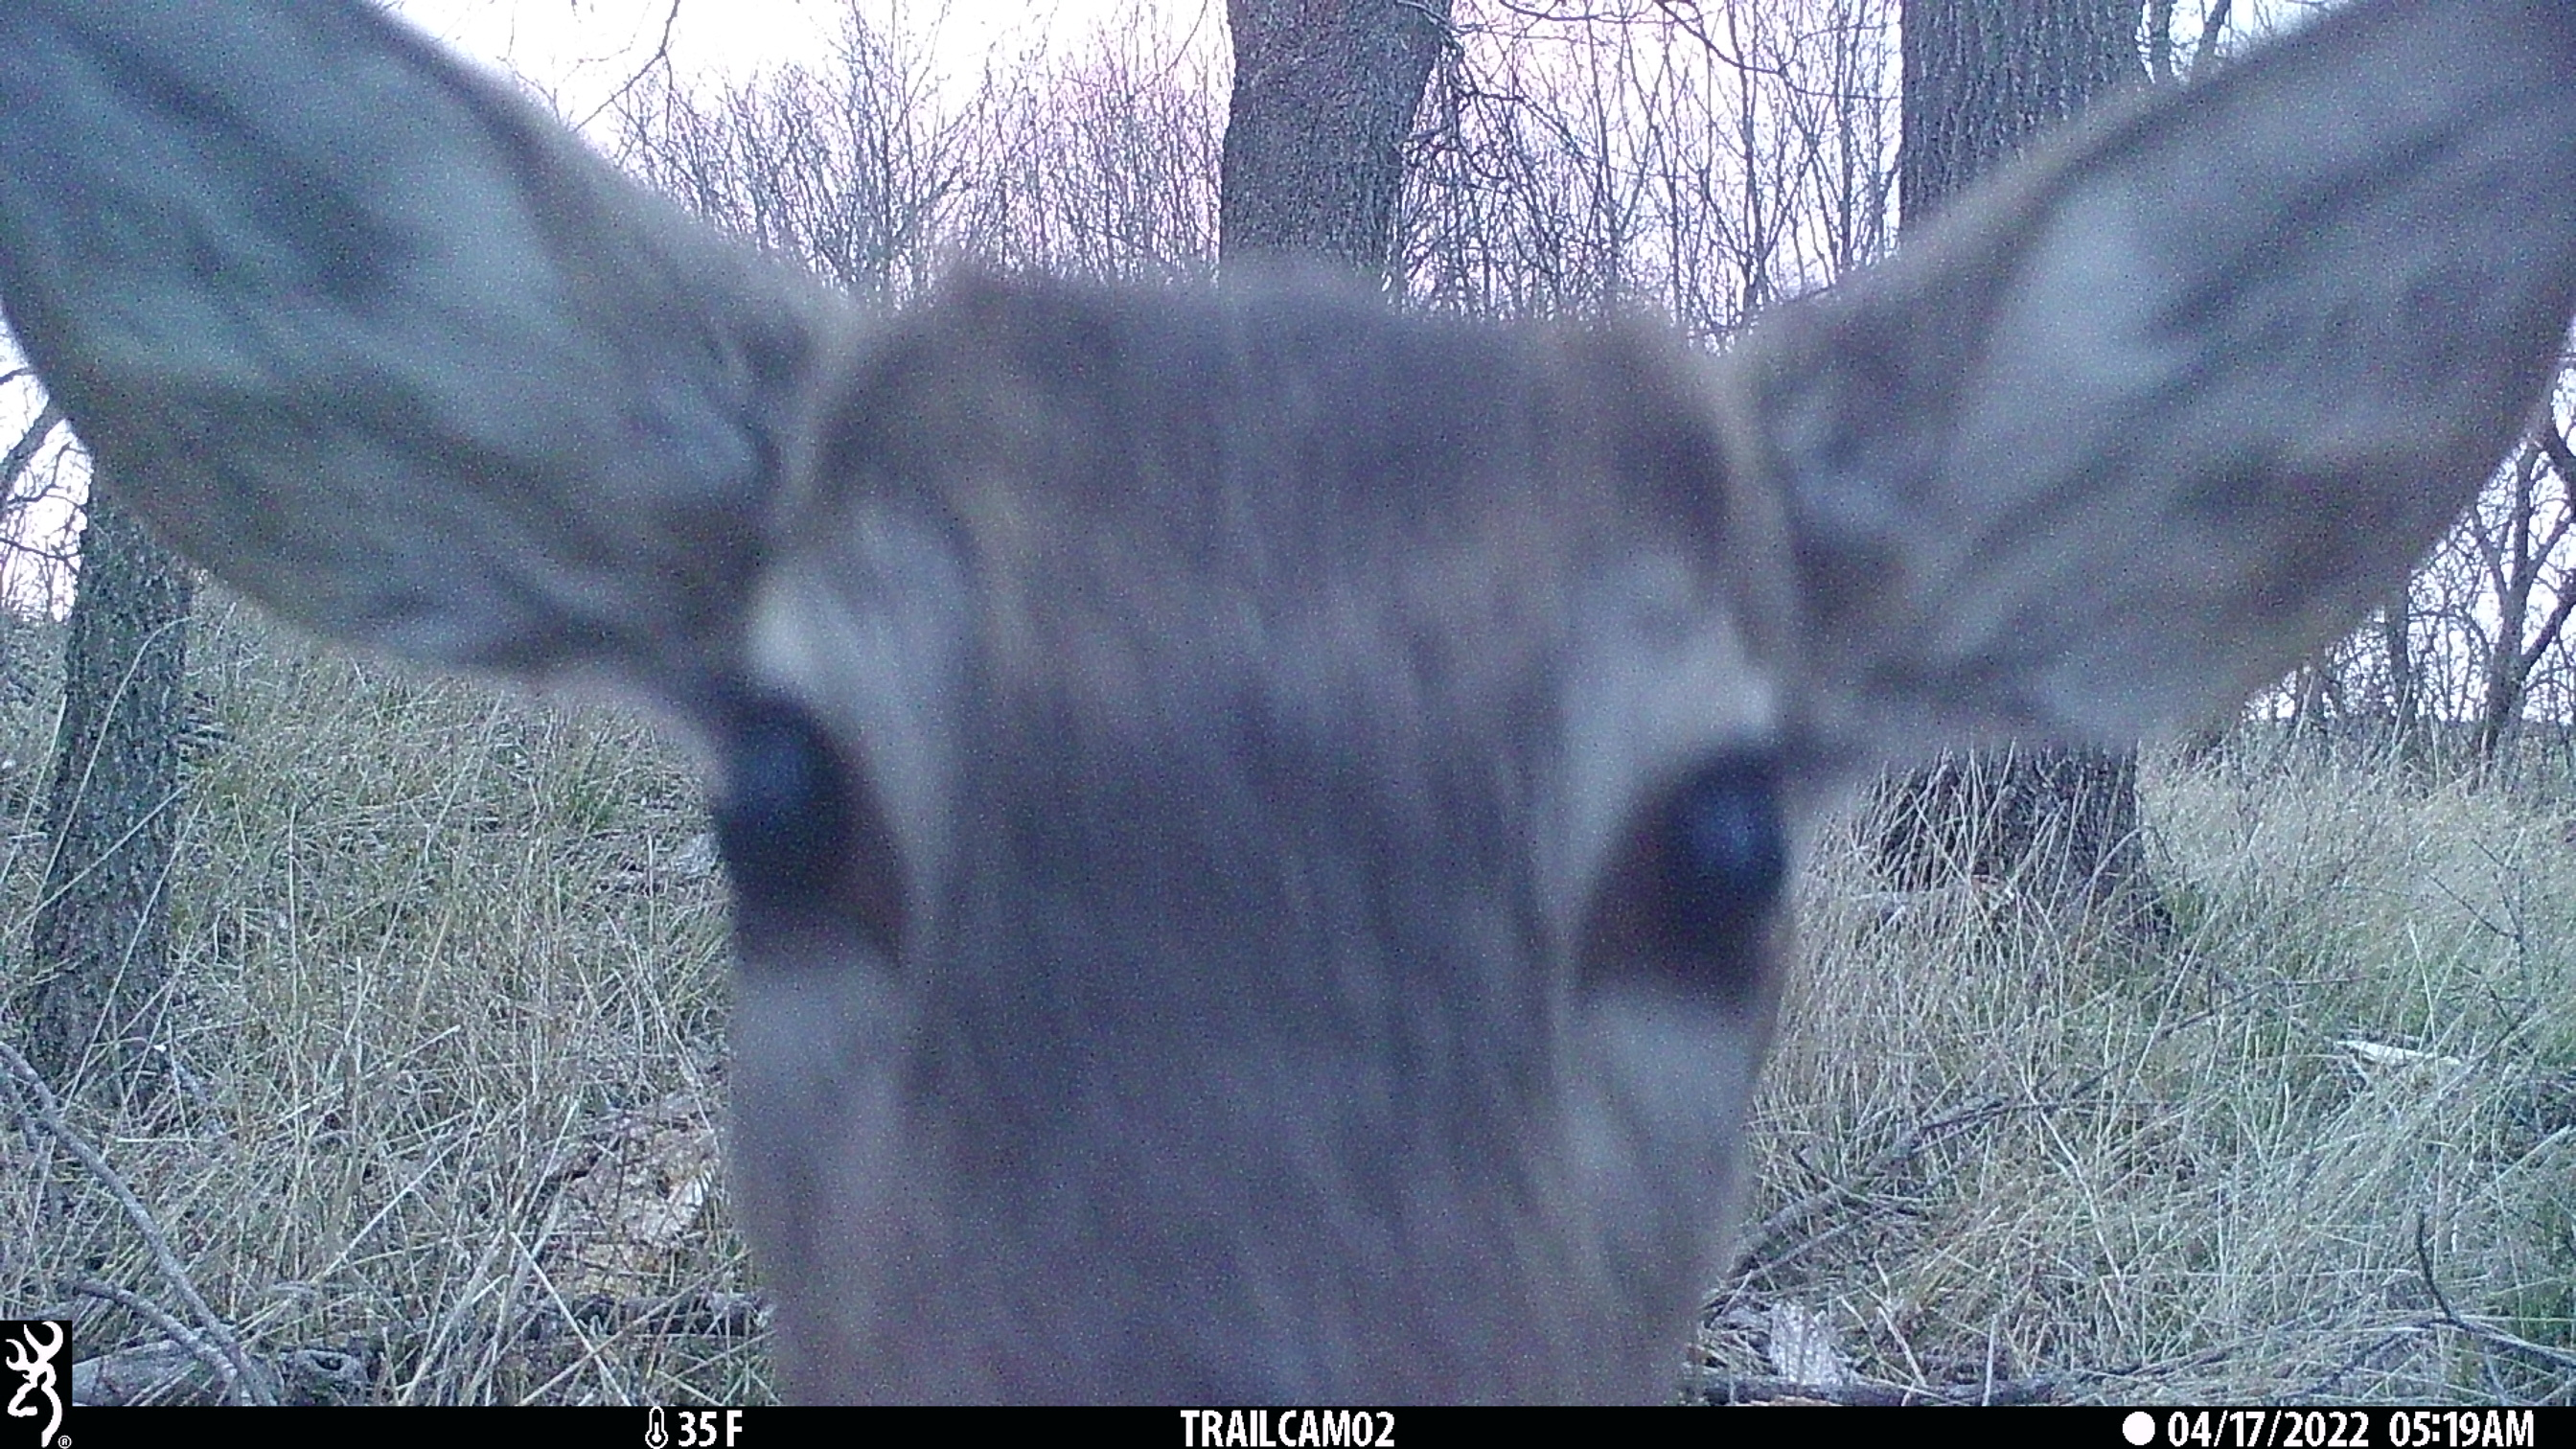DeerDoe: (2, 2, 2576, 1407)
